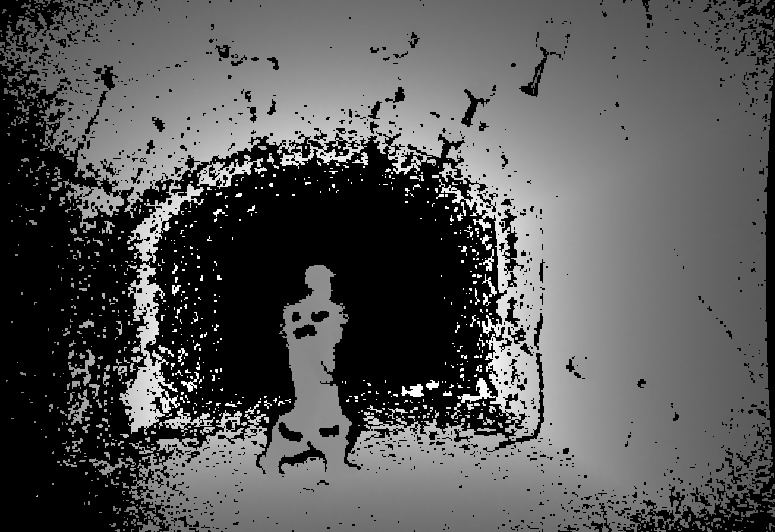person: (258, 262, 361, 475)
